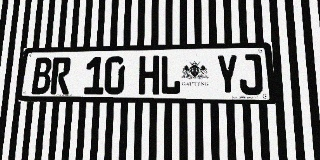0: (104, 56, 125, 94)
1: (84, 57, 105, 94)
B: (31, 57, 53, 94)
H: (138, 56, 159, 95)
J: (238, 54, 263, 95)
L: (160, 55, 181, 95)
R: (50, 57, 71, 94)
Y: (216, 54, 239, 95)
